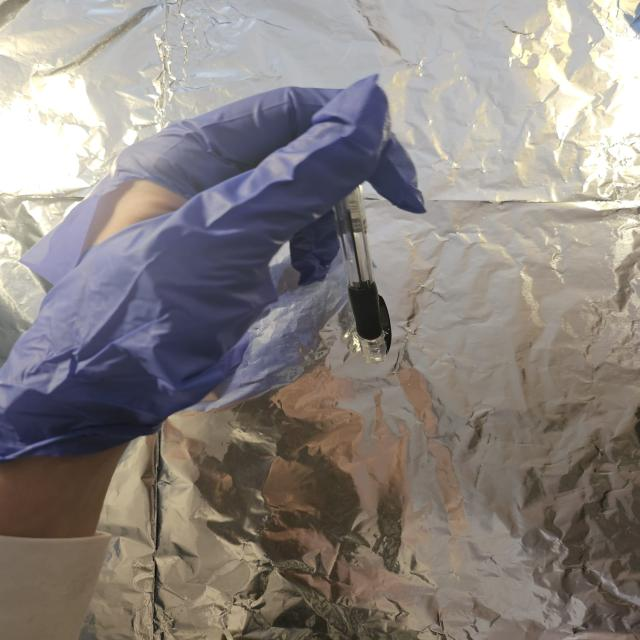gloves_damaged: (0, 70, 429, 464)
